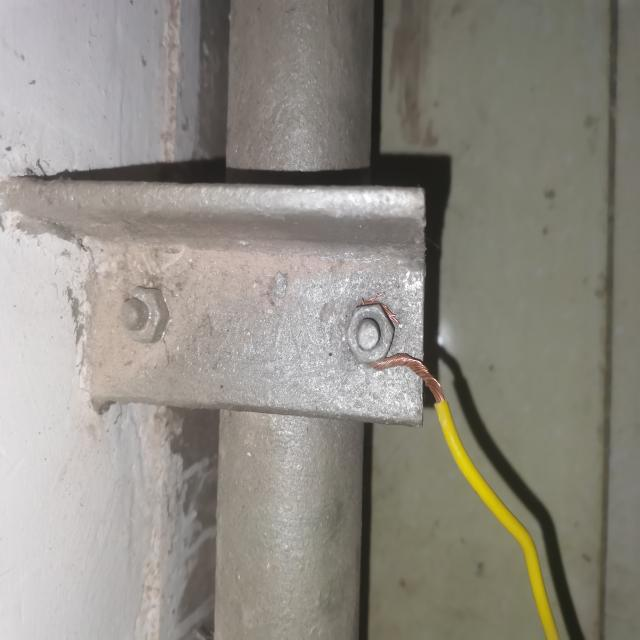bolt nut: (344, 300, 396, 365), (122, 284, 170, 346)
